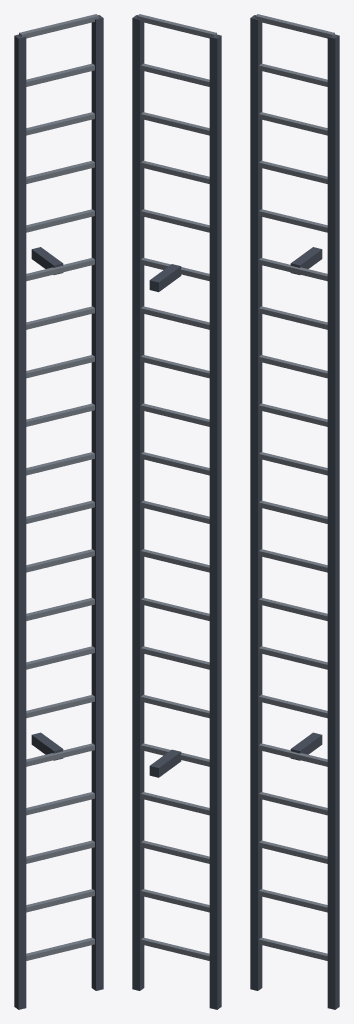
The model's file is fire_escape_ladder.glb.
The picture shows the model from 3 angles, left to right: view 1: azimuth 30°, elevation 25°; view 2: azimuth 150°, elevation 25°; view 3: azimuth 330°, elevation 25°; orthographic projection.
Parts seen in each view (by area): view 1: fire_escape_ladder; view 2: fire_escape_ladder; view 3: fire_escape_ladder.
Part boxes in pixels (left/top/right/bottom): fire_escape_ladder: left=14, top=14, right=103, bottom=1009; fire_escape_ladder: left=132, top=14, right=221, bottom=1009; fire_escape_ladder: left=250, top=14, right=339, bottom=1009.
Bounding box in the file's own units: 0.55 × 6.01 × 0.28.
